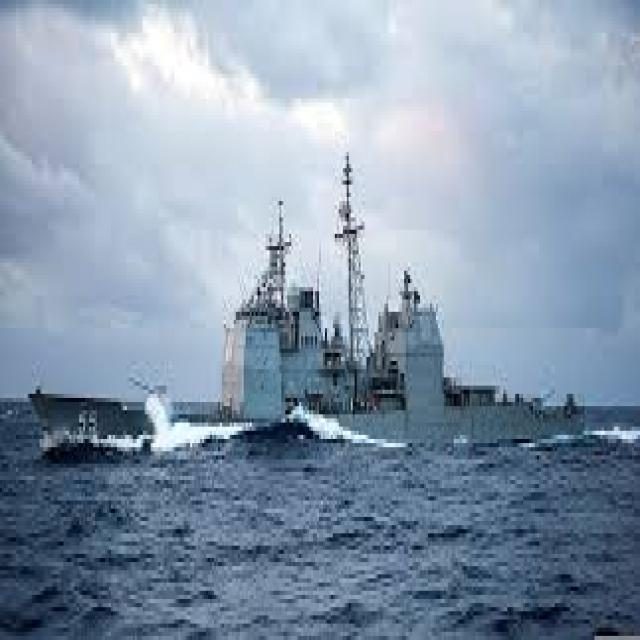navalvessels: (30, 134, 589, 471)
